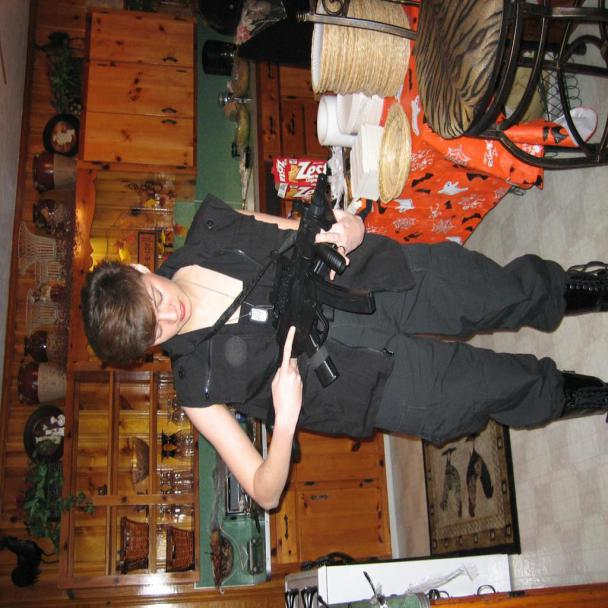Gun: (253, 160, 376, 390)
Hand: (266, 316, 311, 462), (315, 200, 384, 266)
